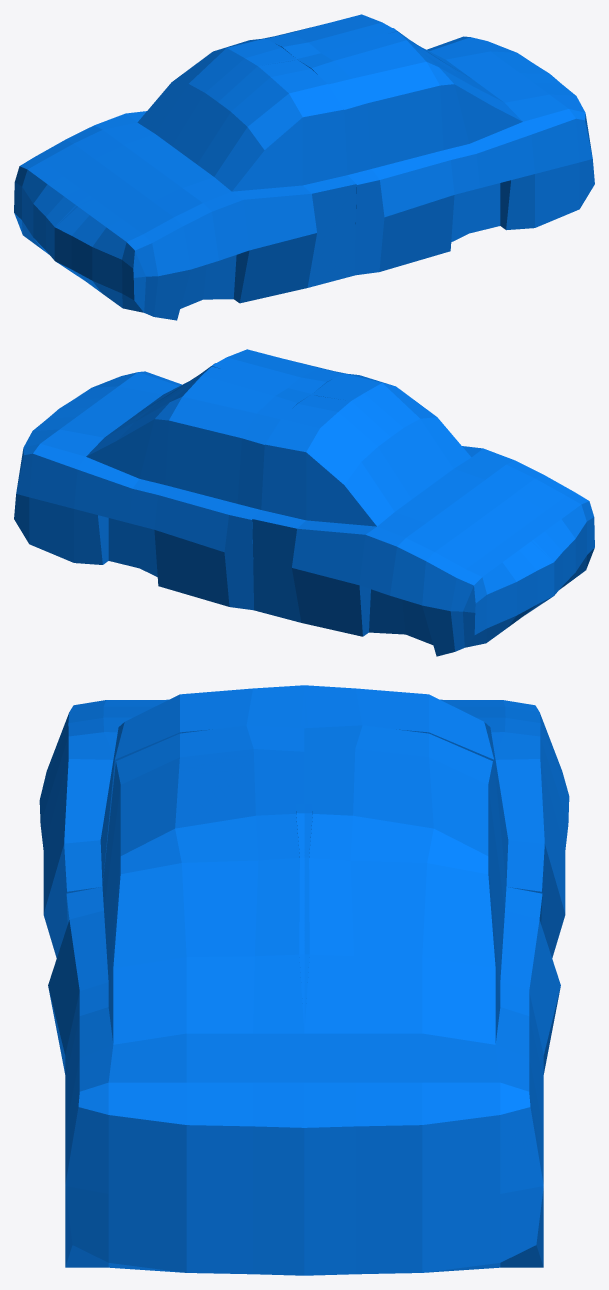
Rendered from carbody.fbx.
3 views of the same model, one above another, from view 1: azimuth 30°, elevation 25°; view 2: azimuth 150°, elevation 25°; view 3: azimuth 270°, elevation 25° (orthographic). The views are drawn at different scales.
Visible parts, largest first — view 1: Body; view 2: Body; view 3: Body.
Boxes of the visible parts, x1,y1,x2,y2 form: Body: (14, 14, 594, 320); Body: (14, 349, 594, 656); Body: (39, 685, 569, 1275).
Bounding box in the file's own units: 4.64 × 1.61 × 2.11.
